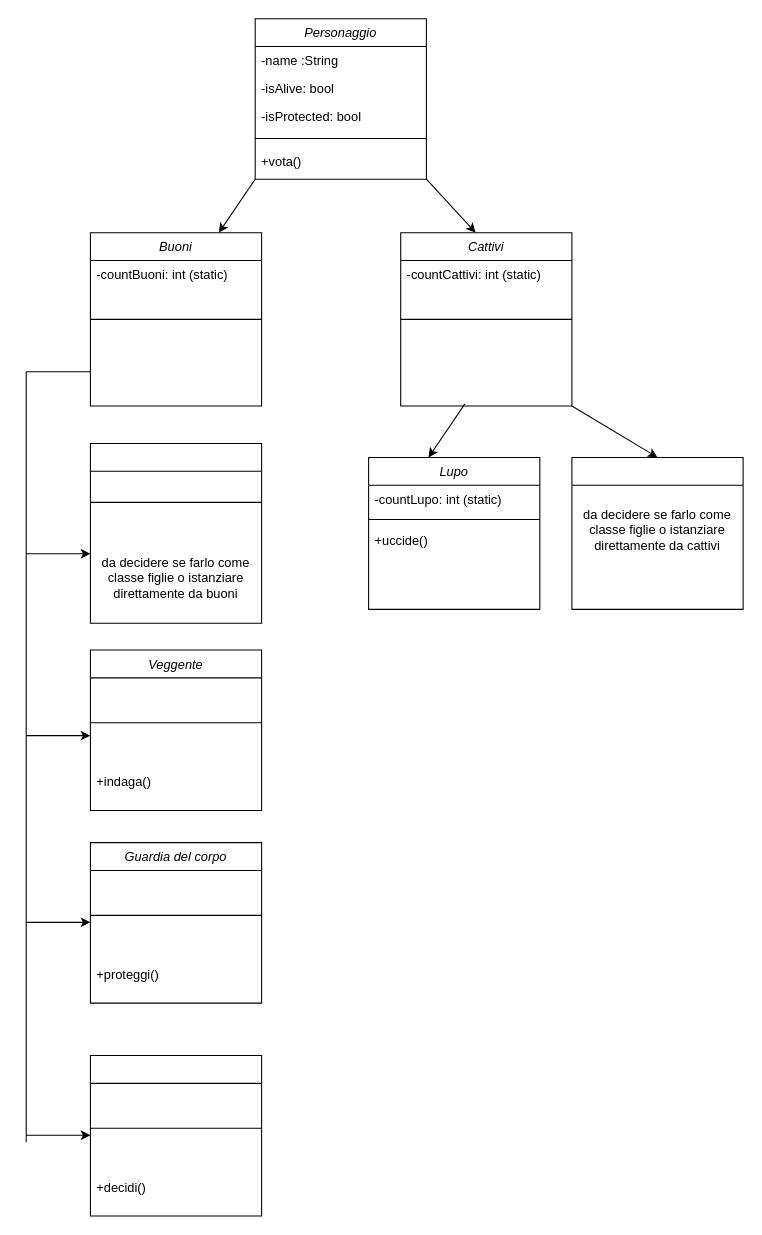
This 762x1235 diagram has some shape labels left out. The shapes that lost their labels are listed below. From the top down, each one's box as (x1, y1, x2, y2) in pixels, then its label:
(89, 442, 262, 623): Contadini
(571, 456, 743, 609): Indemoniato
(89, 1054, 262, 1216): Giudice
